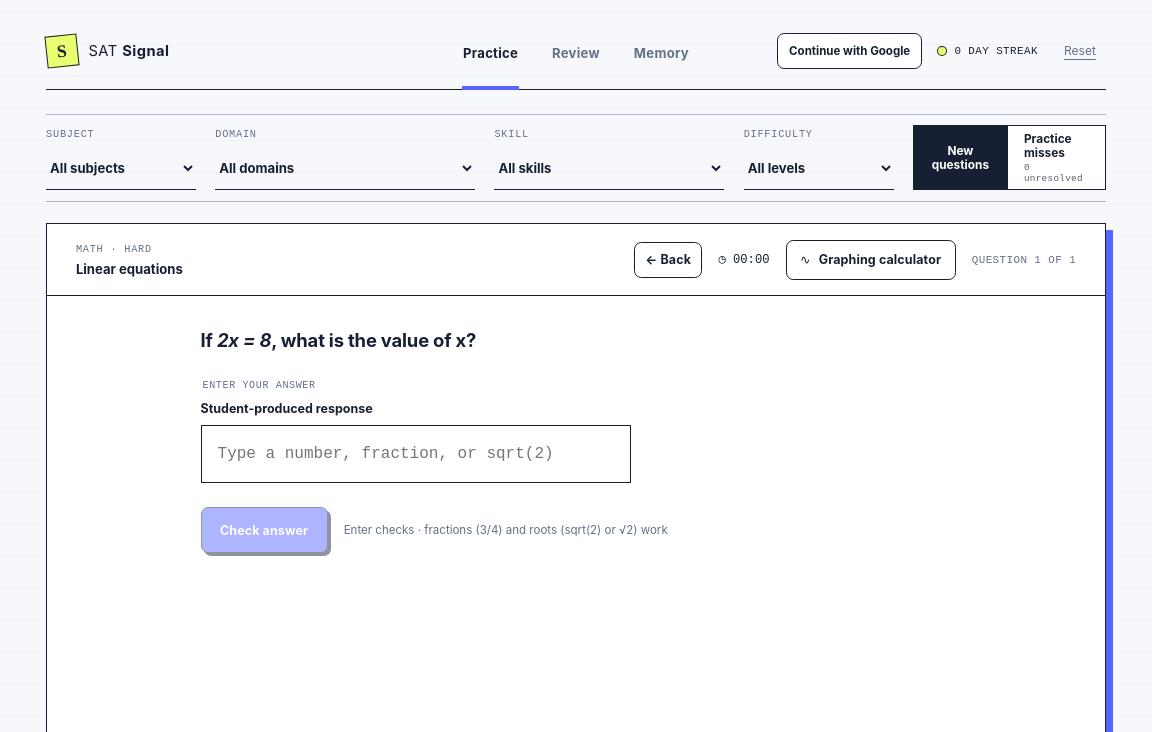
Test: SAT practice app › moves guest history into a signed-in Google account
Check: the heading "If 2x = 8, what is the value of x?" is shown, box top-left (200, 329), bottom-right (476, 351)
Click the button "Continue with Google": (850, 50) top-left (777, 32), bottom-right (922, 68)
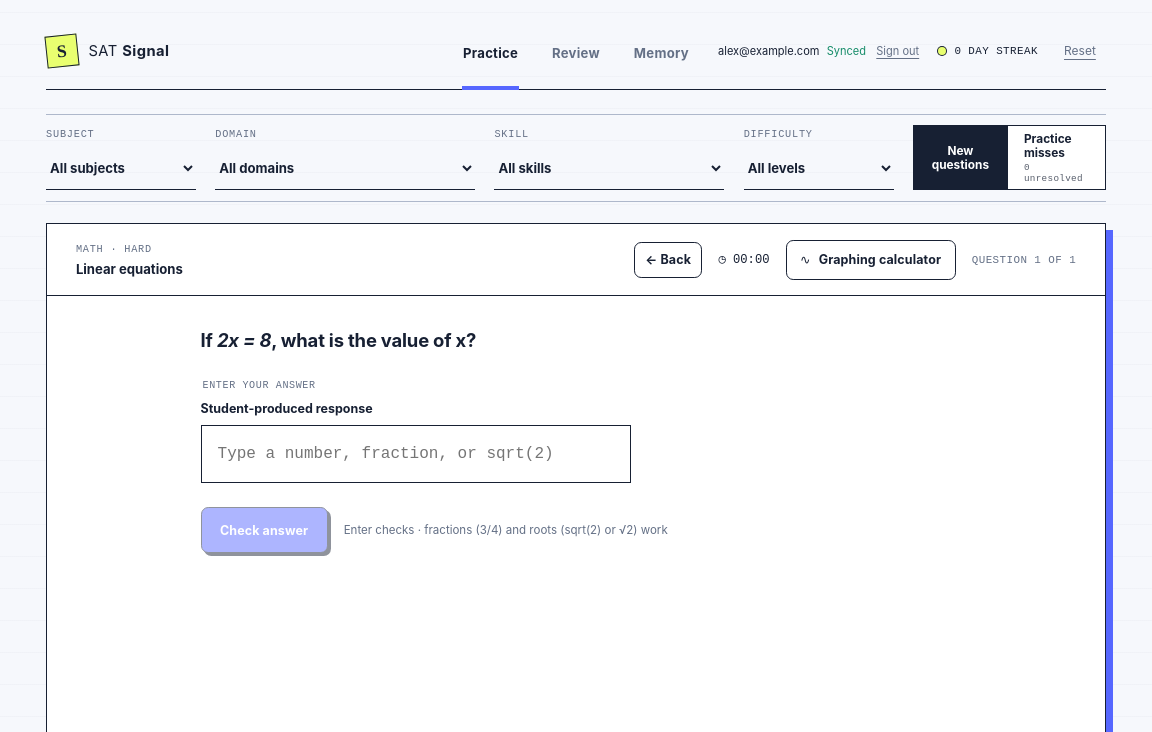
Check: the text "alex@example.com" is shown, box top-left (718, 44), bottom-right (819, 58)
